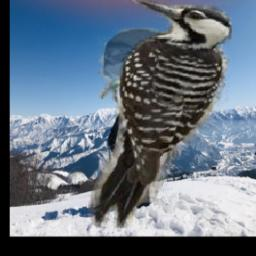Woodpecker: (88, 0, 232, 228)
